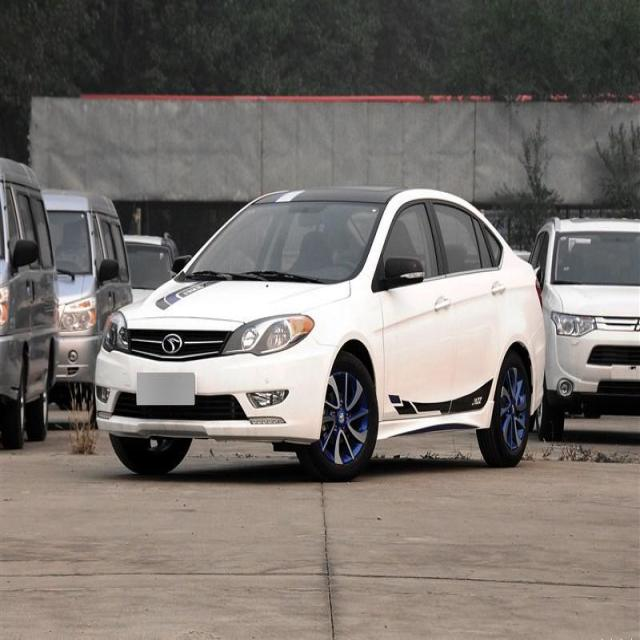door: (429, 197, 508, 416)
front_bumper: (93, 346, 327, 444)
front_glass: (182, 200, 388, 282)
front_left_side_door: (378, 196, 457, 424)
front_left_side_light: (220, 311, 315, 358)
front_left_side_mirror: (382, 255, 425, 288)
front_right_side_light: (101, 309, 130, 356)
front_right_side_mirror: (172, 250, 190, 276)
wheel: (300, 349, 378, 477), (476, 353, 529, 466)
